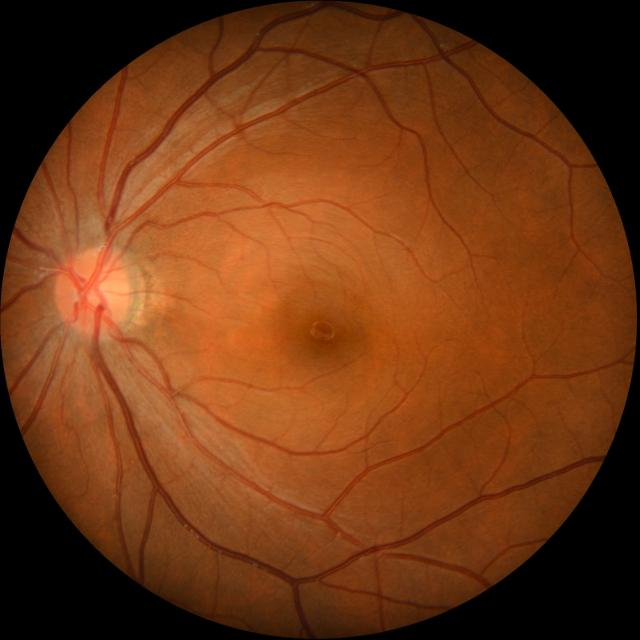OC: (87, 278, 112, 308)
OD: (56, 251, 128, 333)
